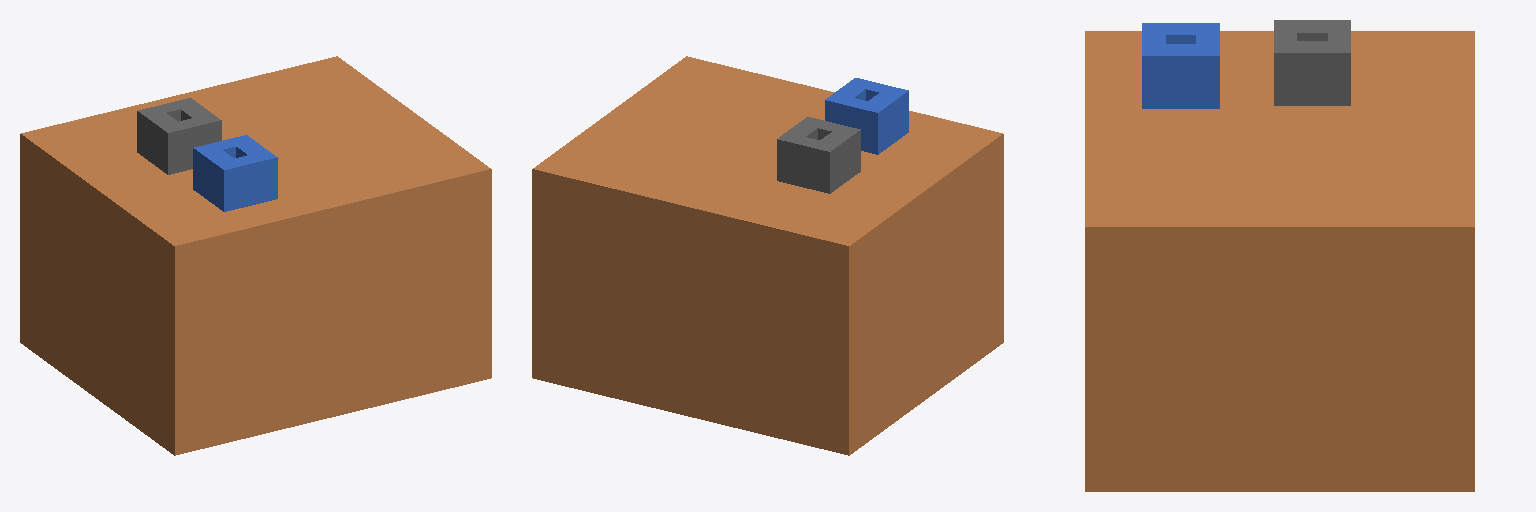
The robot description file, URDF, robot "peg_in_hole_fixtured_scene_0036_peg0014_tol00":
<?xml version="1.0"?>
<robot name="peg_in_hole_fixtured_scene_0036_peg0014_tol00">
  <material name="wood"><color rgba="0.82 0.56 0.35 1.0"/></material>
  <material name="start_fix"><color rgba="0.30 0.50 0.85 1.0"/></material>
  <material name="goal_fix"><color rgba="0.4706 0.4706 0.4706 1.0"/></material>
  <link name="box">
    <visual>
      <origin xyz="0.000000 0.000000 0.000000" rpy="0 0 0"/>
      <geometry><box size="0.475000 0.400000 0.300000"/></geometry>
      <material name="wood"/>
    </visual>
    <collision>
      <origin xyz="0.000000 0.000000 0.000000" rpy="0 0 0"/>
      <geometry><box size="0.475000 0.400000 0.300000"/></geometry>
    </collision>
    <visual>
      <origin xyz="-0.089455 -0.101494 0.155000" rpy="0 0 0"/>
      <geometry><box size="0.080000 0.080000 0.010000"/></geometry>
      <material name="start_fix"/>
    </visual>
    <collision>
      <origin xyz="-0.089455 -0.101494 0.155000" rpy="0 0 0"/>
      <geometry><box size="0.080000 0.080000 0.010000"/></geometry>
    </collision>
    <visual>
      <origin xyz="-0.064205 -0.101494 0.185000" rpy="0 0 0"/>
      <geometry><box size="0.029500 0.080000 0.050000"/></geometry>
      <material name="start_fix"/>
    </visual>
    <collision>
      <origin xyz="-0.064205 -0.101494 0.185000" rpy="0 0 0"/>
      <geometry><box size="0.029500 0.080000 0.050000"/></geometry>
    </collision>
    <visual>
      <origin xyz="-0.114705 -0.101494 0.185000" rpy="0 0 0"/>
      <geometry><box size="0.029500 0.080000 0.050000"/></geometry>
      <material name="start_fix"/>
    </visual>
    <collision>
      <origin xyz="-0.114705 -0.101494 0.185000" rpy="0 0 0"/>
      <geometry><box size="0.029500 0.080000 0.050000"/></geometry>
    </collision>
    <visual>
      <origin xyz="-0.089455 -0.073744 0.185000" rpy="0 0 0"/>
      <geometry><box size="0.021000 0.024500 0.050000"/></geometry>
      <material name="start_fix"/>
    </visual>
    <collision>
      <origin xyz="-0.089455 -0.073744 0.185000" rpy="0 0 0"/>
      <geometry><box size="0.021000 0.024500 0.050000"/></geometry>
    </collision>
    <visual>
      <origin xyz="-0.089455 -0.129244 0.185000" rpy="0 0 0"/>
      <geometry><box size="0.021000 0.024500 0.050000"/></geometry>
      <material name="start_fix"/>
    </visual>
    <collision>
      <origin xyz="-0.089455 -0.129244 0.185000" rpy="0 0 0"/>
      <geometry><box size="0.021000 0.024500 0.050000"/></geometry>
    </collision>
    <visual>
      <origin xyz="-0.095492 0.033423 0.155000" rpy="0 0 0"/>
      <geometry><box size="0.080000 0.080000 0.010000"/></geometry>
      <material name="goal_fix"/>
    </visual>
    <collision>
      <origin xyz="-0.095492 0.033423 0.155000" rpy="0 0 0"/>
      <geometry><box size="0.080000 0.080000 0.010000"/></geometry>
    </collision>
    <visual>
      <origin xyz="-0.070112 0.033423 0.185000" rpy="0 0 0"/>
      <geometry><box size="0.029240 0.080000 0.050000"/></geometry>
      <material name="goal_fix"/>
    </visual>
    <collision>
      <origin xyz="-0.070112 0.033423 0.185000" rpy="0 0 0"/>
      <geometry><box size="0.029240 0.080000 0.050000"/></geometry>
    </collision>
    <visual>
      <origin xyz="-0.120872 0.033423 0.185000" rpy="0 0 0"/>
      <geometry><box size="0.029240 0.080000 0.050000"/></geometry>
      <material name="goal_fix"/>
    </visual>
    <collision>
      <origin xyz="-0.120872 0.033423 0.185000" rpy="0 0 0"/>
      <geometry><box size="0.029240 0.080000 0.050000"/></geometry>
    </collision>
    <visual>
      <origin xyz="-0.095492 0.061303 0.185000" rpy="0 0 0"/>
      <geometry><box size="0.021520 0.024240 0.050000"/></geometry>
      <material name="goal_fix"/>
    </visual>
    <collision>
      <origin xyz="-0.095492 0.061303 0.185000" rpy="0 0 0"/>
      <geometry><box size="0.021520 0.024240 0.050000"/></geometry>
    </collision>
    <visual>
      <origin xyz="-0.095492 0.005543 0.185000" rpy="0 0 0"/>
      <geometry><box size="0.021520 0.024240 0.050000"/></geometry>
      <material name="goal_fix"/>
    </visual>
    <collision>
      <origin xyz="-0.095492 0.005543 0.185000" rpy="0 0 0"/>
      <geometry><box size="0.021520 0.024240 0.050000"/></geometry>
    </collision>
    <inertial>
      <mass value="500"/>
      <friction value="1.0"/>
      <inertia ixx="1000.0" ixy="0.0" ixz="0.0" iyy="1000.0" iyz="0.0" izz="1000.0"/>
    </inertial>
  </link>
</robot>

--- What the picture shows (computed from the rendered views, not written in the file) ---
3 views of the same robot in one strip: view 1: azimuth 30°, elevation 25°; view 2: azimuth 150°, elevation 25°; view 3: azimuth 270°, elevation 25° (orthographic).
Model peg_in_hole_fixtured_scene_0036_peg0014_tol00 with 1 links and 0 joints (none), rooted at box, posed every joint at zero.
Links seen in each view (by area): view 1: box; view 2: box; view 3: box.
Link boxes in pixels (x1,y1,x2,y2): box: [20, 56, 491, 455]; box: [532, 56, 1003, 455]; box: [1085, 20, 1474, 491].
Bounding box of the posed robot: 0.475 × 0.4 × 0.36 m (x, y, z).
Geometry: primitives only (box / cylinder / sphere), no mesh files.
